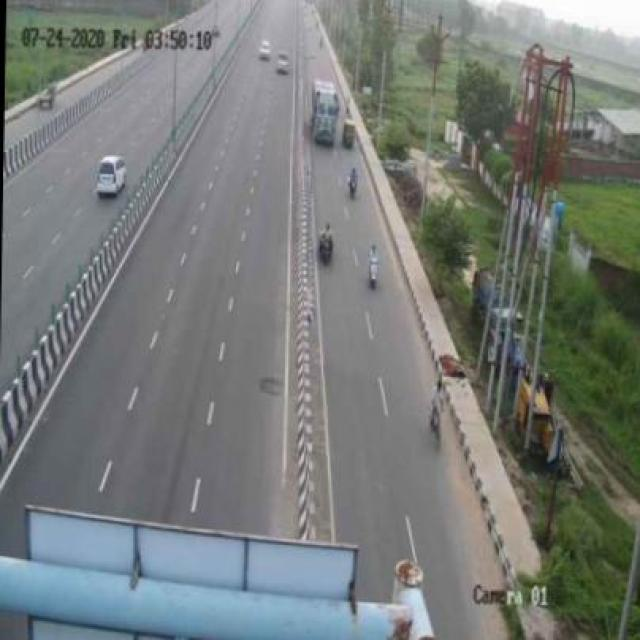car: (95, 144, 130, 203), (276, 42, 292, 78), (255, 30, 273, 62)
